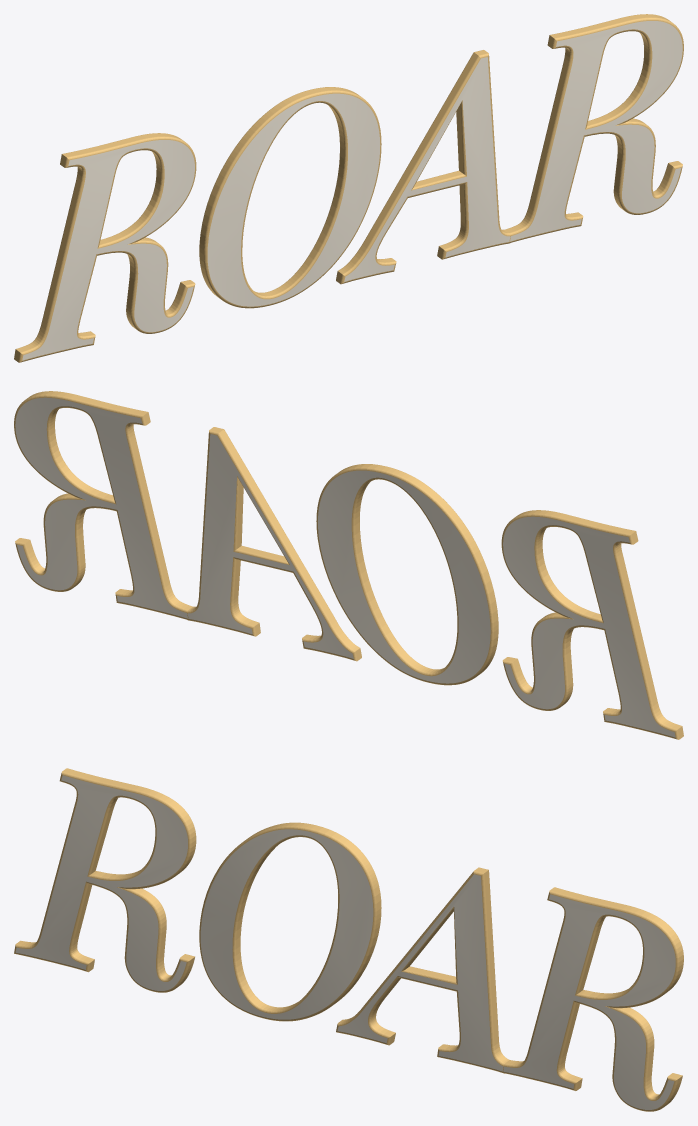
File: roar-desktop.glb
3 renders of one model, top to bottom at view 1: azimuth 30°, elevation 25°; view 2: azimuth 150°, elevation 25°; view 3: azimuth 330°, elevation 25°, orthographic.
Visible parts, largest first — view 1: Pearl, Gold; view 2: Pearl, Gold; view 3: Pearl, Gold.
Boxes of the visible parts, <box> form: Pearl: <box>22,21,682,360</box>; Gold: <box>14,14,683,362</box>; Pearl: <box>15,397,675,737</box>; Gold: <box>14,391,683,739</box>; Pearl: <box>15,775,675,1109</box>; Gold: <box>14,768,683,1111</box>.
Bounding box in the file's own units: 2.61 × 0.754 × 0.058.
